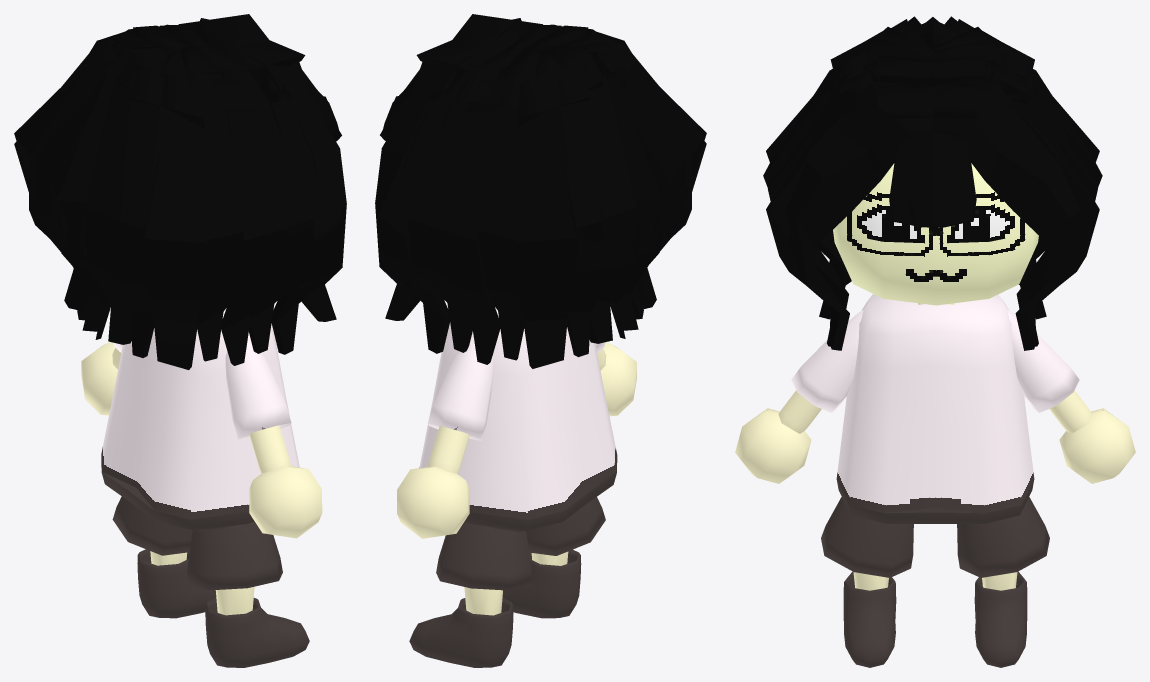
The model's file is Cecil1.glb.
The picture shows the model from 3 angles, left to right: view 1: azimuth 30°, elevation 25°; view 2: azimuth 150°, elevation 25°; view 3: azimuth 270°, elevation 25°; orthographic projection. The views are drawn at different scales.
Visible parts, largest first — view 1: hair_Hair001.baked.001, Cube.001, Cube.003, Cube.008, Cube.005, Cube.004, Cube.007, Cube.002; view 2: hair_Hair001.baked.001, Cube.001, Cube.003, Cube.008, Cube.005, Cube.004, Cube.007, Cube.002; view 3: hair_Hair001.baked.001, Cube.001, Cube, Cube.008, Cube.005, Cube.003, Cube.004, Cube.007, Cube.002.
Part boxes in pixels (x1,y1,x2,y2): hair_Hair001.baked.001: (14, 14, 346, 369); Cube.001: (101, 308, 299, 519); Cube.003: (137, 549, 309, 667); Cube.008: (112, 496, 282, 590); Cube.005: (81, 342, 322, 538); Cube.004: (113, 332, 291, 440); Cube.007: (101, 457, 254, 531); Cube.002: (150, 551, 254, 615); hair_Hair001.baked.001: (375, 14, 706, 368); Cube.001: (419, 307, 617, 519); Cube.003: (409, 549, 581, 667); Cube.008: (436, 497, 605, 590); Cube.005: (397, 342, 636, 538); Cube.004: (427, 331, 604, 440); Cube.007: (464, 457, 617, 531); Cube.002: (464, 551, 568, 615); hair_Hair001.baked.001: (763, 16, 1102, 350); Cube.001: (836, 294, 1034, 512); Cube: (833, 163, 1038, 305); Cube.008: (821, 497, 1049, 577); Cube.005: (735, 390, 1135, 483); Cube.003: (843, 571, 1027, 667); Cube.004: (791, 310, 1079, 412); Cube.007: (836, 479, 1034, 523); Cube.002: (853, 572, 1017, 590).
Size of the model in its own units: 1.79 by 3.78 by 2.33.
2 materials, 2 textured.
